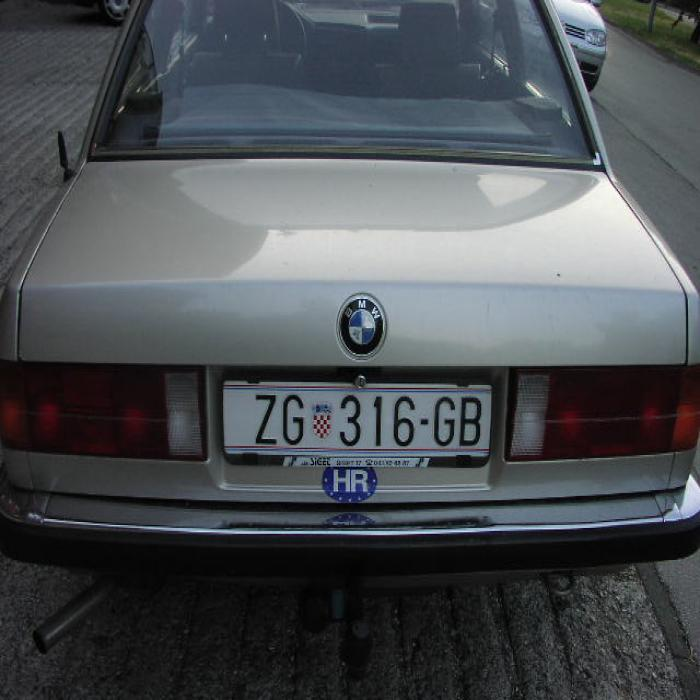number_plate: (222, 382, 488, 451)
